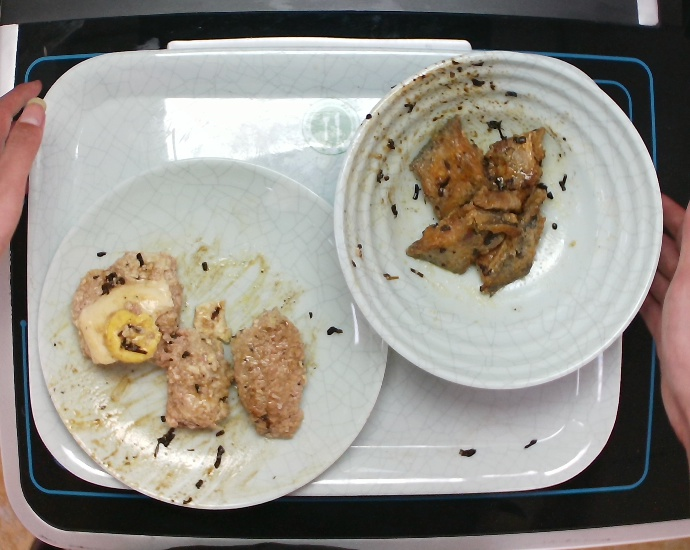JYsf-Da_Tang_Wan: (325, 47, 669, 395)
JYsf-Da_Yuan_Pan: (32, 149, 393, 513)
